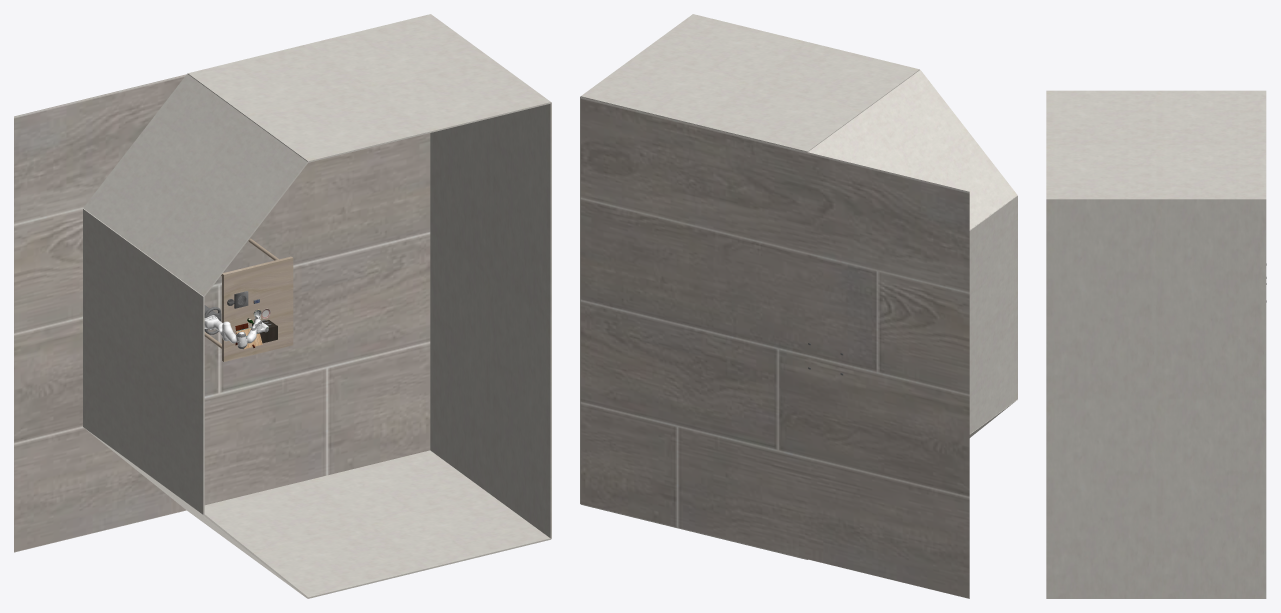
The picture shows the model from 3 angles, left to right: view 1: azimuth 30°, elevation 25°; view 2: azimuth 150°, elevation 25°; view 3: azimuth 270°, elevation 25°; orthographic projection. The views are drawn at different scales.
Parts seen in each view (by area): view 1: floor__g0, wall_front_visual__g6, wall_left_visual__g3, wall_right_visual__g4, wall_rear_visual__g5, wall_leftcorner_visual__g1, table_visual__g8, wall_rightcorner_visual__g2; view 2: floor__g0, wall_left_visual__g3, wall_leftcorner_visual__g1, wall_rear_visual__g5; view 3: wall_front_visual__g6, wall_left_visual__g3.
Boxes of the visible parts, x1=… form: floor__g0: x1=14, y1=74, x2=430, y2=552; wall_front_visual__g6: x1=430, y1=102, x2=551, y2=538; wall_left_visual__g3: x1=187, y1=14, x2=551, y2=162; wall_right_visual__g4: x1=204, y1=450, x2=551, y2=598; wall_rear_visual__g5: x1=83, y1=208, x2=204, y2=514; wall_leftcorner_visual__g1: x1=83, y1=74, x2=307, y2=296; table_visual__g8: x1=222, y1=256, x2=293, y2=361; wall_rightcorner_visual__g2: x1=83, y1=427, x2=307, y2=598; floor__g0: x1=580, y1=97, x2=969, y2=598; wall_left_visual__g3: x1=580, y1=14, x2=919, y2=152; wall_leftcorner_visual__g1: x1=808, y1=70, x2=1017, y2=229; wall_rear_visual__g5: x1=969, y1=195, x2=1017, y2=434; wall_front_visual__g6: x1=1046, y1=199, x2=1266, y2=598; wall_left_visual__g3: x1=1046, y1=90, x2=1266, y2=199.
Bounding box in the file's own units: 6.01 × 6.02 × 3.01.
24 materials, 12 textured.
